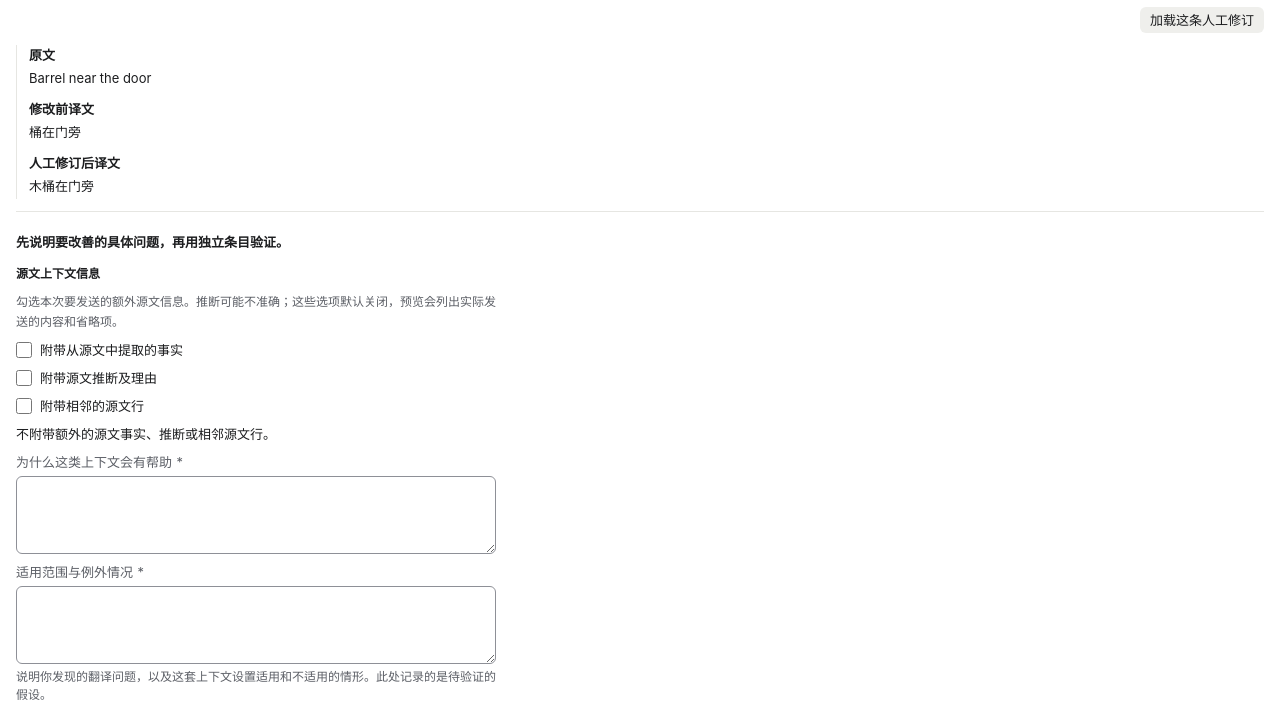
Test: loads a saved correction and captures the candidate through the original owner in zh-CN
This screenshot has width=1280, height=710.
(page scrolled)
Expected: the heading "人工修订后译文" is shown, [29,155,120,171]
Click the checkbox labelled "附带从源文中提取的事实": click(24, 350) [16,342,32,358]
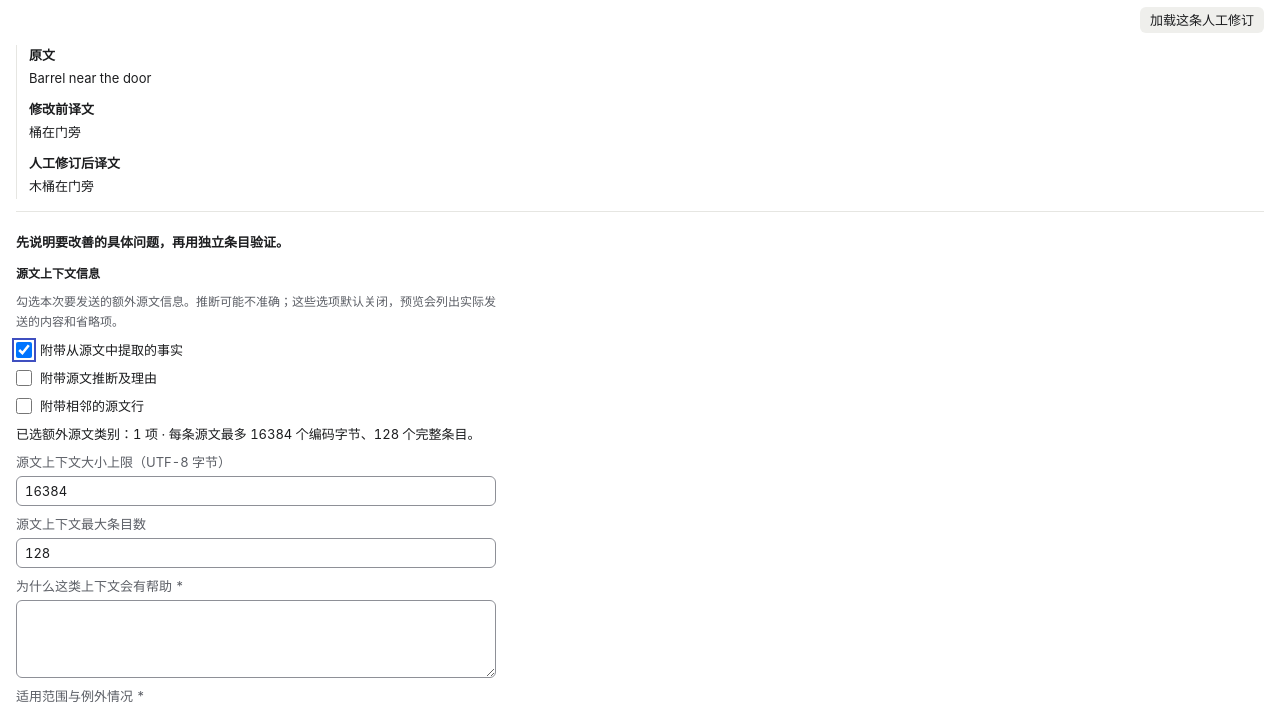
In the text box labelled "为什么这类上下文会有帮助": (256, 639) [16,600,496,678], type "Keep the extracted scene"
(page scrolled)
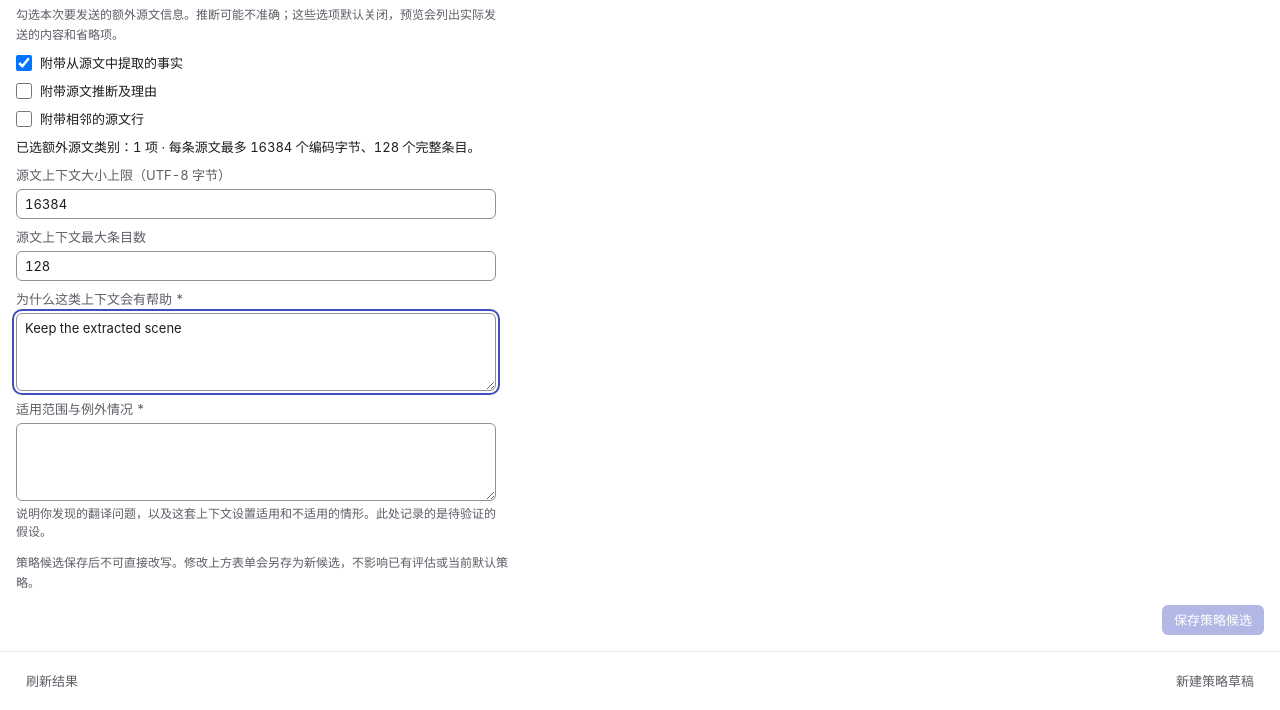
In the text box labelled "适用范围与例外情况": (256, 462) [16,423,496,501], type "Only this project and language"
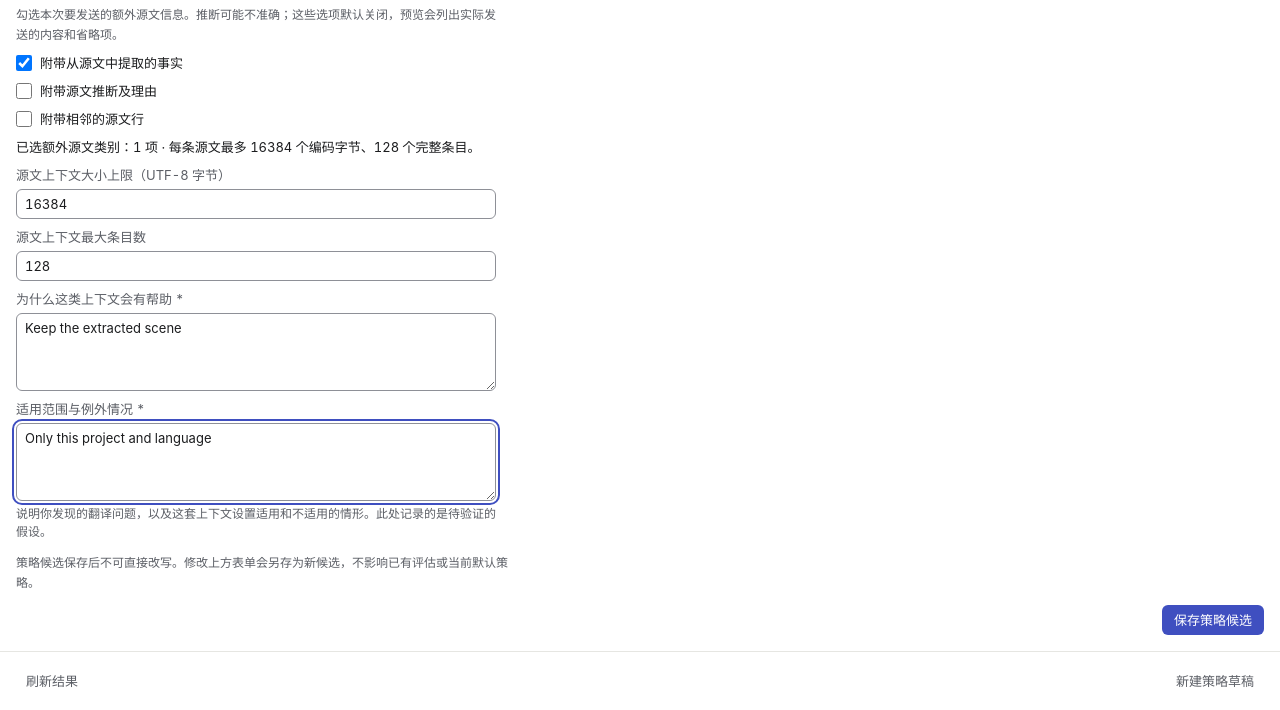
Click the button "保存策略候选": click(1213, 620) [1162,605,1264,635]
(page scrolled)
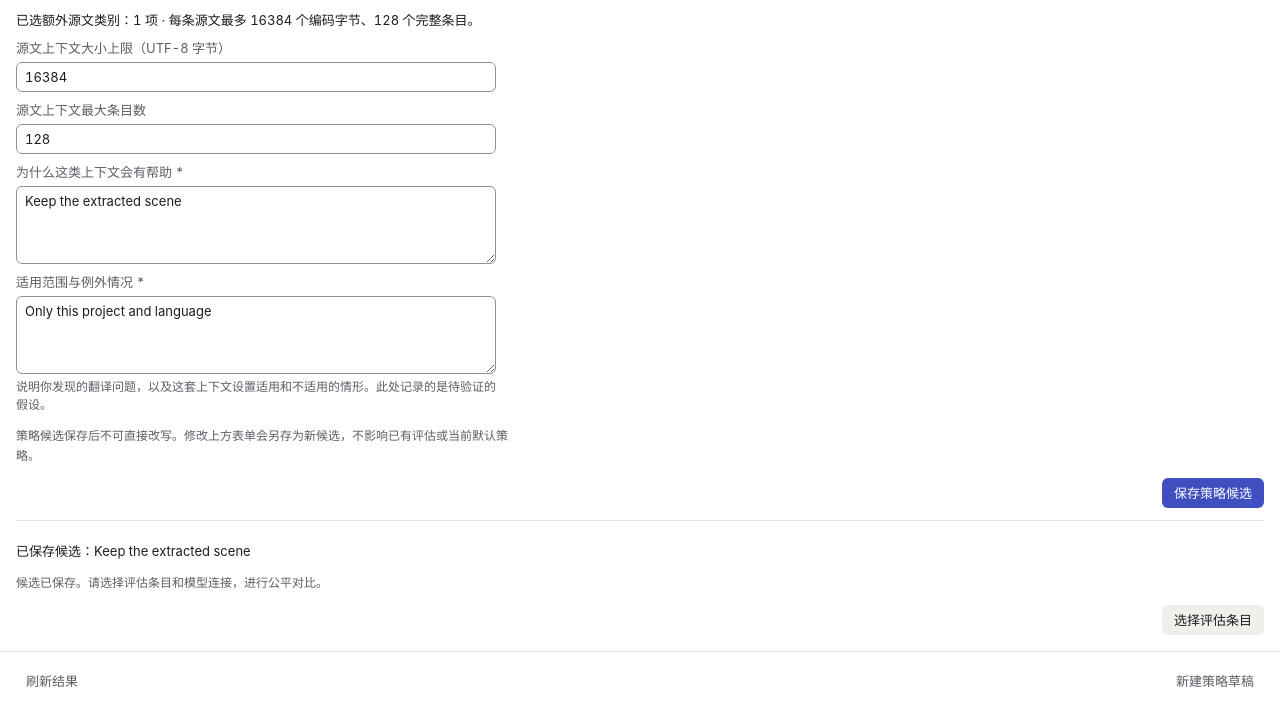
Result: the text "候选已保存。请选择评估条目和模型连接，进行公平对比。" is shown at [16,575,328,590]
